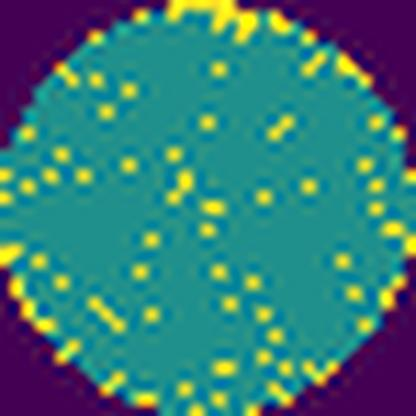Edge-Loc: (169, 0, 256, 48)
